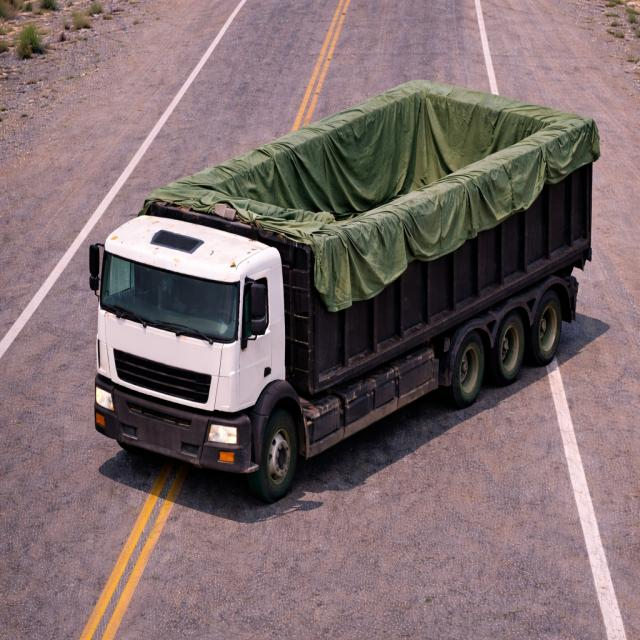trailer: (147, 80, 606, 239)
truck: (82, 61, 613, 496)
